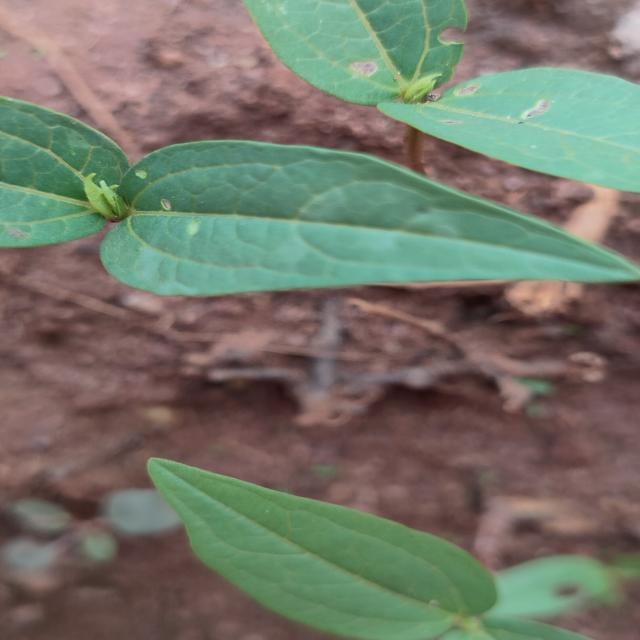Black gram_healthy: (111, 141, 638, 302), (153, 454, 499, 640), (373, 56, 640, 196)
